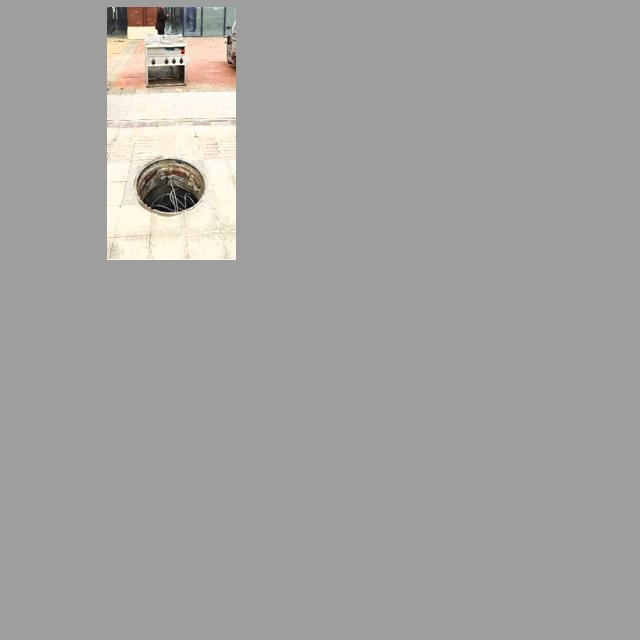lose: (128, 152, 211, 218)
